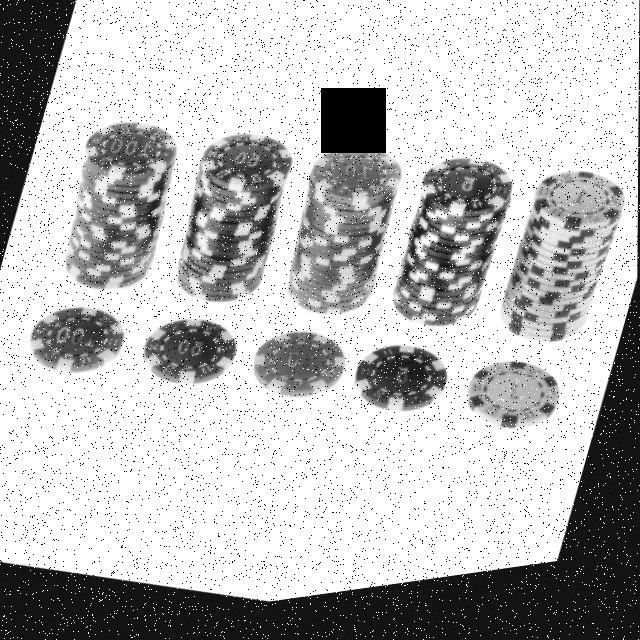Chip: (478, 162, 639, 385), (162, 118, 308, 331), (378, 150, 523, 361), (47, 104, 192, 315), (269, 134, 412, 344), (13, 285, 138, 399), (343, 332, 463, 447), (130, 301, 248, 413), (241, 318, 357, 430), (456, 355, 570, 467)
